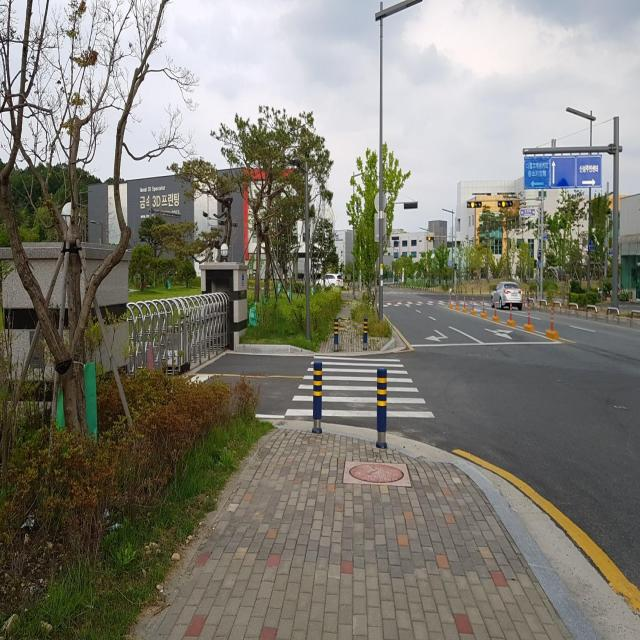횡단보도: (284, 355, 436, 420), (373, 299, 502, 309)
